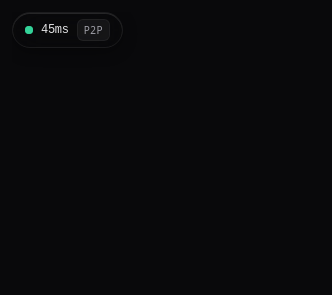
NetworkQualityHUD Component › displays detailed telemetry (RTT, Loss, Resolution, FPS) in popover
This screenshot has width=332, height=295.
Click the button with test id "hud-trigger": (68, 30) [12,12,123,48]
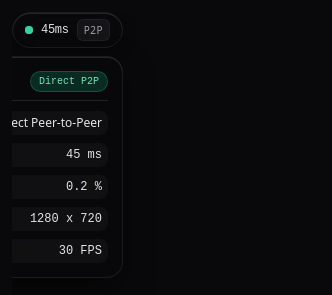
Now the text "45 ms" is shown, box [66,147,102,163]
Now the text "0.2 %" is shown, box [66,179,102,195]
Now the text "1280 x 720" is shown, box [30,211,102,227]
